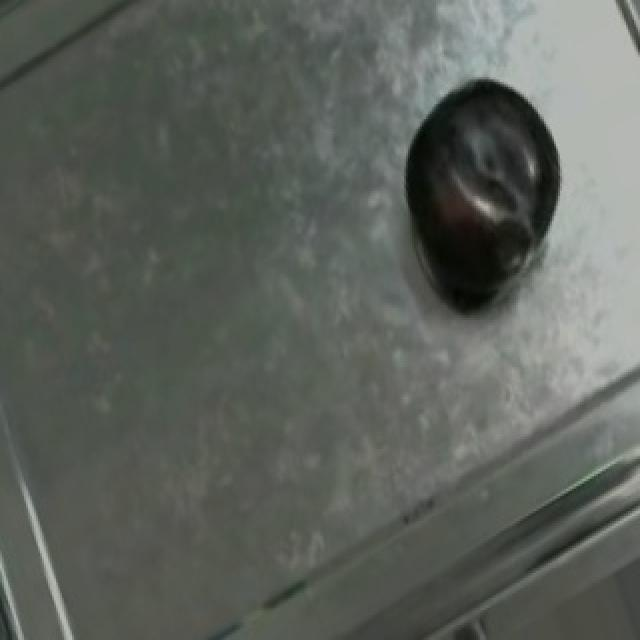Fruit: (380, 60, 584, 288)
